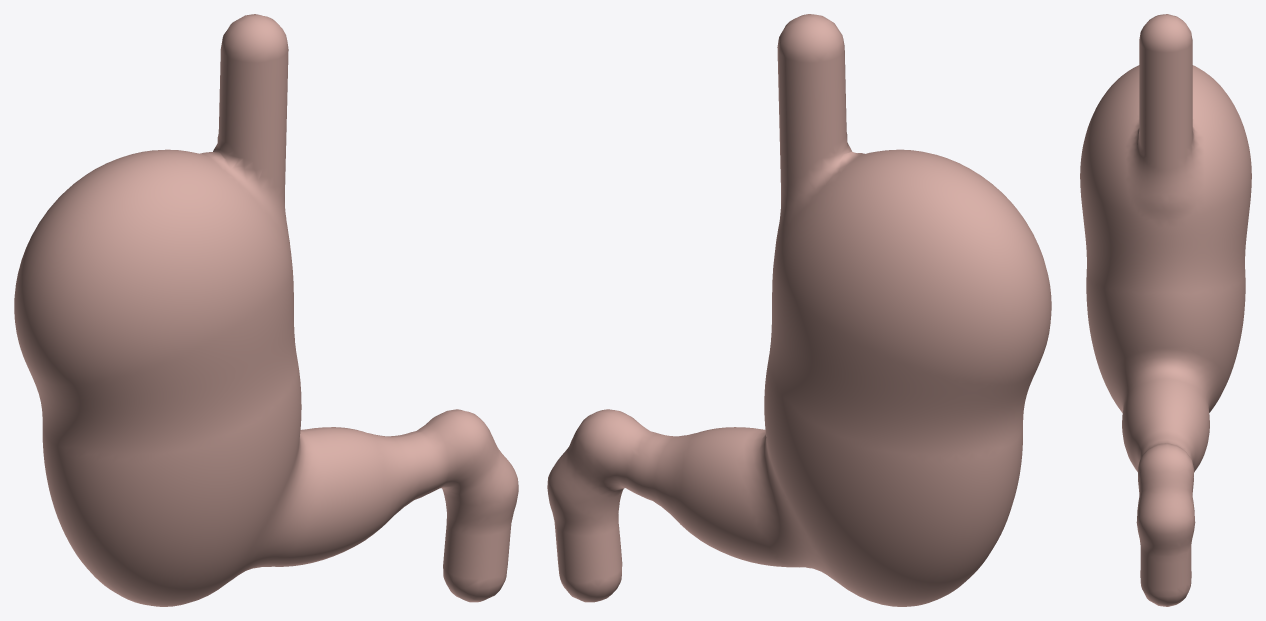
File: stomach-checkpoint.glb
3 views of the same model, side by side, from view 1: azimuth 30°, elevation 25°; view 2: azimuth 150°, elevation 25°; view 3: azimuth 270°, elevation 25° (orthographic). The views are drawn at different scales.
Parts seen in each view (by area): view 1: Stomach cavity — review pending; view 2: Stomach cavity — review pending; view 3: Stomach cavity — review pending.
Boxes of the visible parts, bbox=[...] form: Stomach cavity — review pending: bbox=[14, 14, 518, 606]; Stomach cavity — review pending: bbox=[547, 14, 1051, 606]; Stomach cavity — review pending: bbox=[1080, 14, 1251, 606].
Size of the model in its own units: 0.1065 by 0.1324 by 0.041.
